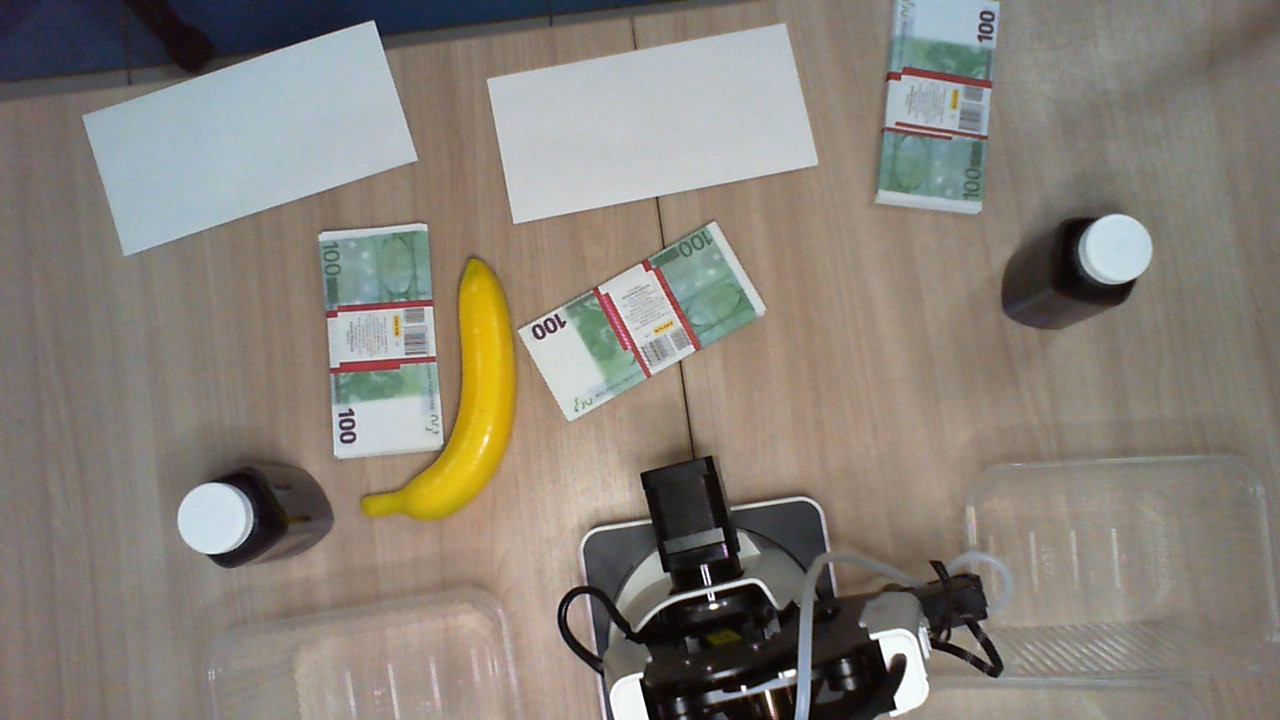banana: (361, 250, 516, 522)
bottle: (172, 465, 278, 572), (1054, 211, 1151, 305)
convert: (82, 21, 418, 260), (487, 25, 821, 225)
money: (517, 222, 764, 422), (316, 221, 448, 462), (873, 1, 998, 215)
